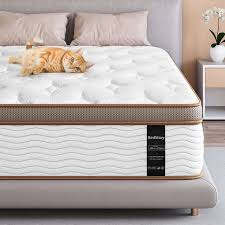bed-matress: (1, 43, 203, 179)
